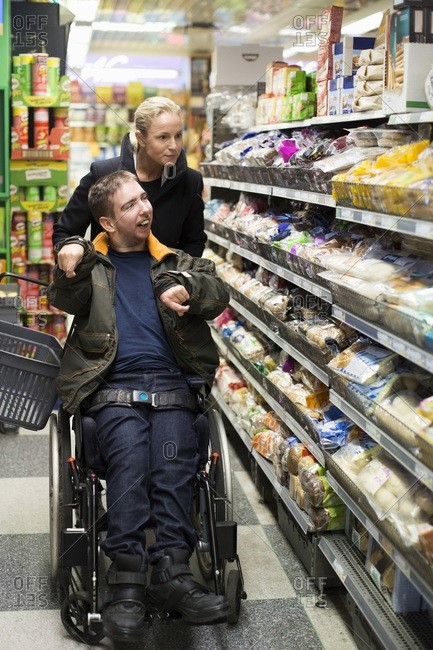face_no_mask: (91, 170, 151, 246), (132, 95, 184, 165)
